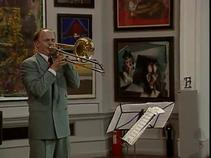sit: (117, 48, 138, 73), (143, 61, 161, 89)
